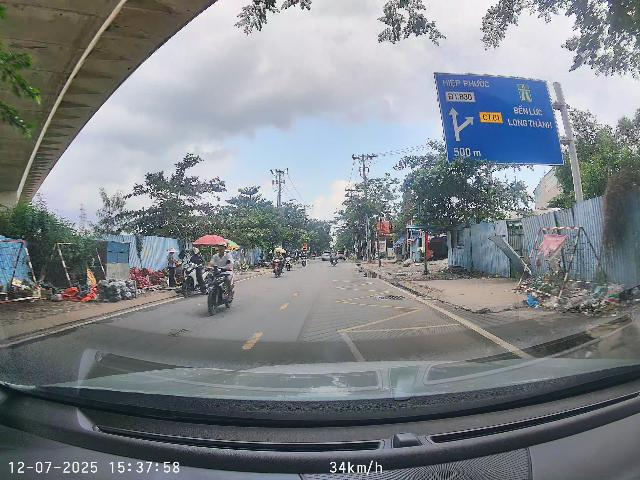437-bat-dau-duong-cao-toc: (517, 84, 533, 102)
